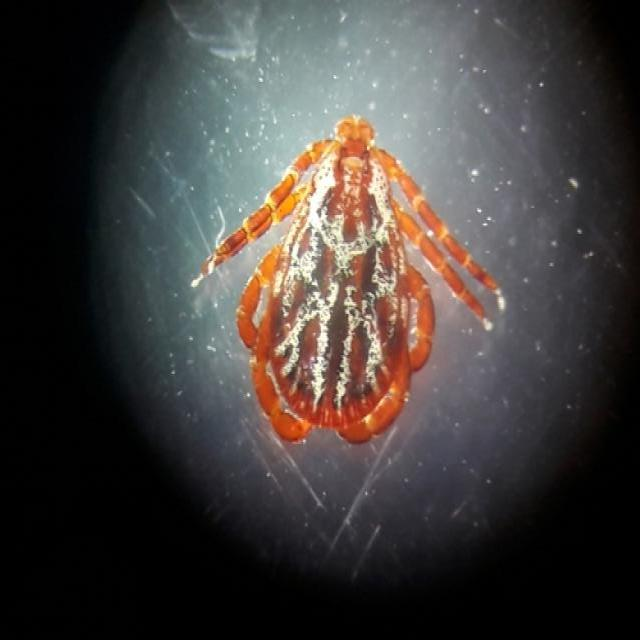Dermacentor Reticulatus-M: (193, 114, 503, 449)
